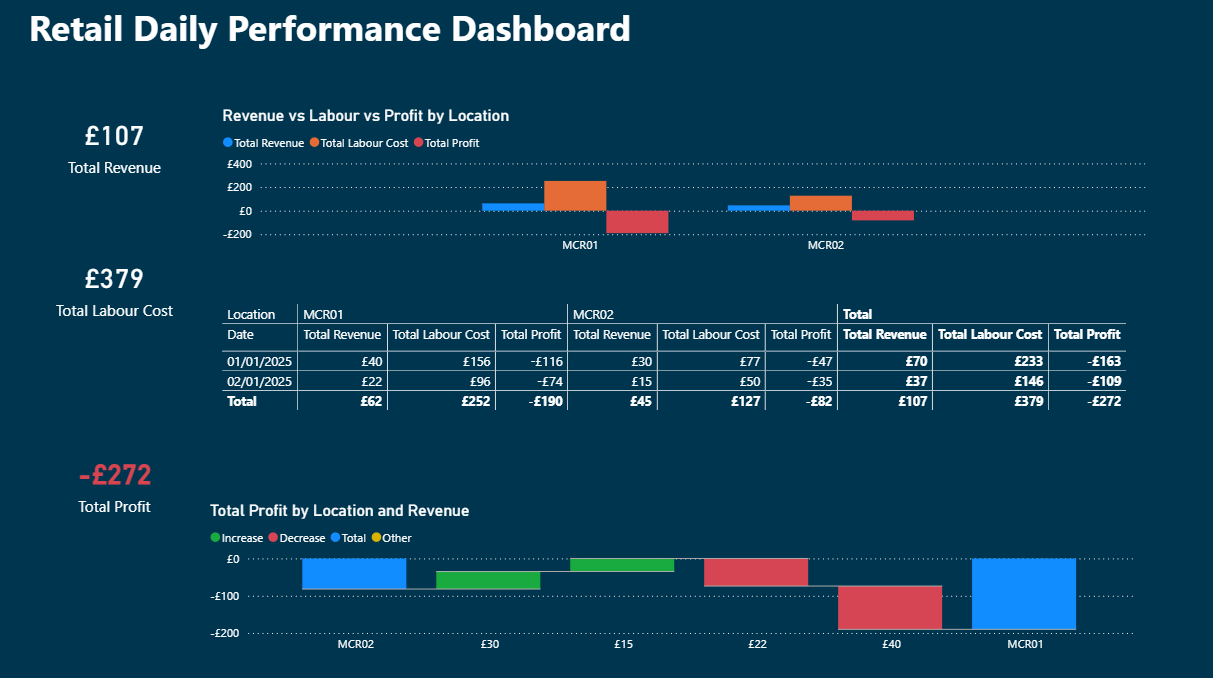

This screenshot's page, from the dashboard's own definition file:
{"tool":"powerbi","page":{"name":"Hospitality Data","canvas":[1280,720],"ordinal":0},"visuals":[{"type":"card","fields":{"Values":["Sum(gold_daily_metrics.total_revenue)"]},"box":[26.9,79.2,190.8,149.8],"z":0},{"type":"card","fields":{"Values":["Sum(gold_daily_metrics.total_labour_cost)"]},"box":[26.9,229,190.8,149.8],"z":1000},{"type":"card","fields":{"Values":["Sum(gold_daily_metrics.profit)"]},"box":[26.9,435.3,190.8,149.8],"z":2000},{"type":"textbox","box":[26.9,0,742.1,59.4],"z":3000},{"type":"clusteredColumnChart","title":"Revenue vs Labour vs Profit by Location","fields":{"Category":["gold_daily_metrics.location_id"],"Y":["Sum(gold_daily_metrics.total_revenue)","Sum(gold_daily_metrics.total_labour_cost)","Sum(gold_daily_metrics.profit)"]},"box":[230.3,113.2,981.6,165.8],"z":4000},{"type":"pivotTable","fields":{"Rows":["gold_daily_metrics.date"],"Columns":["gold_daily_metrics.location_id"],"Values":["Sum(gold_daily_metrics.total_revenue)","Sum(gold_daily_metrics.total_labour_cost)","Sum(gold_daily_metrics.profit)"]},"box":[230.3,317.1,994.8,161.8],"z":5000},{"type":"waterfallChart","title":"Total Profit by Location and Revenue","fields":{"Category":["gold_daily_metrics.location_id"],"Breakdown":["gold_daily_metrics.total_revenue"],"Y":["Sum(gold_daily_metrics.profit)"]},"box":[217.1,529,981.6,169.7],"z":6000}]}

Visuals, with their boxes in screenshot pixels (x1, y1, x2, y2), scaled from the page's 1280x720 canvas onto the 1213x678 screenshot:
card - Sum(gold_daily_metrics.total_revenue): [25, 75, 206, 216]
card - Sum(gold_daily_metrics.total_labour_cost): [25, 216, 206, 357]
card - Sum(gold_daily_metrics.profit): [25, 410, 206, 551]
textbox: [25, 0, 729, 56]
"Revenue vs Labour vs Profit by Location" clusteredColumnChart: [218, 107, 1148, 263]
pivotTable - gold_daily_metrics.date x gold_daily_metrics.location_id: [218, 299, 1161, 451]
"Total Profit by Location and Revenue" waterfallChart: [206, 498, 1136, 658]
